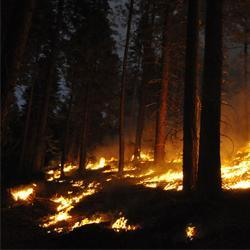fire: (146, 169, 181, 189), (223, 165, 250, 189), (56, 194, 72, 220), (7, 186, 34, 201), (111, 215, 133, 233), (92, 158, 107, 167)
